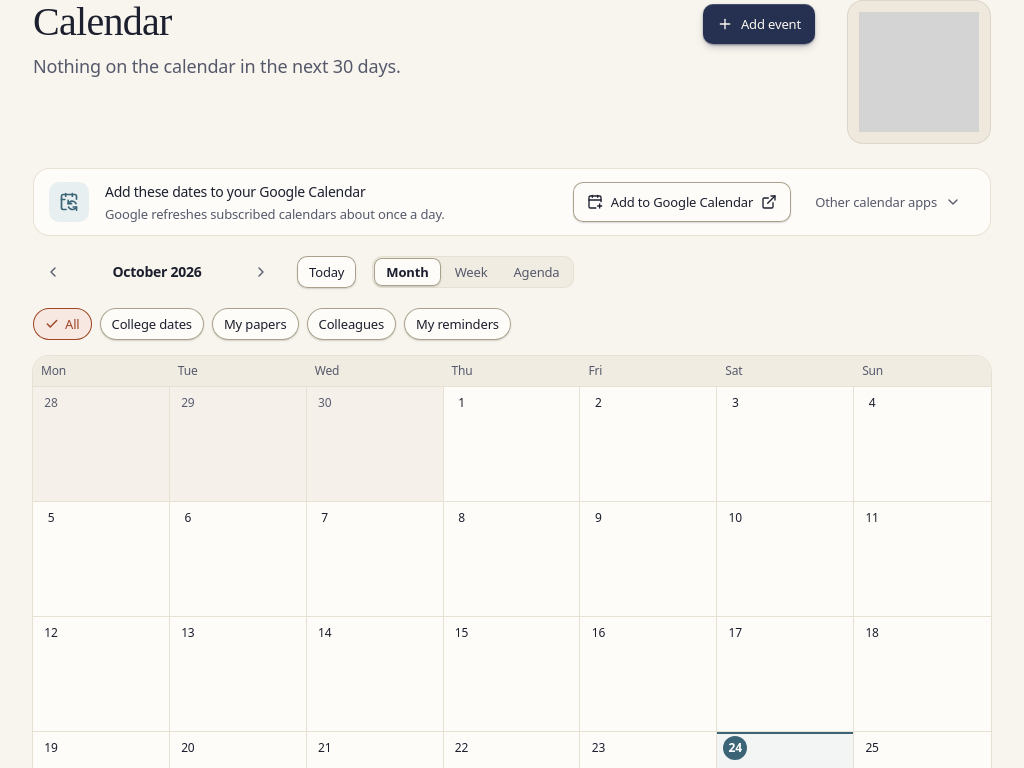
Test case: Add event › starts from today when the header button is used on this month
Click the button "Add event": (759, 24) [703,4,815,44]
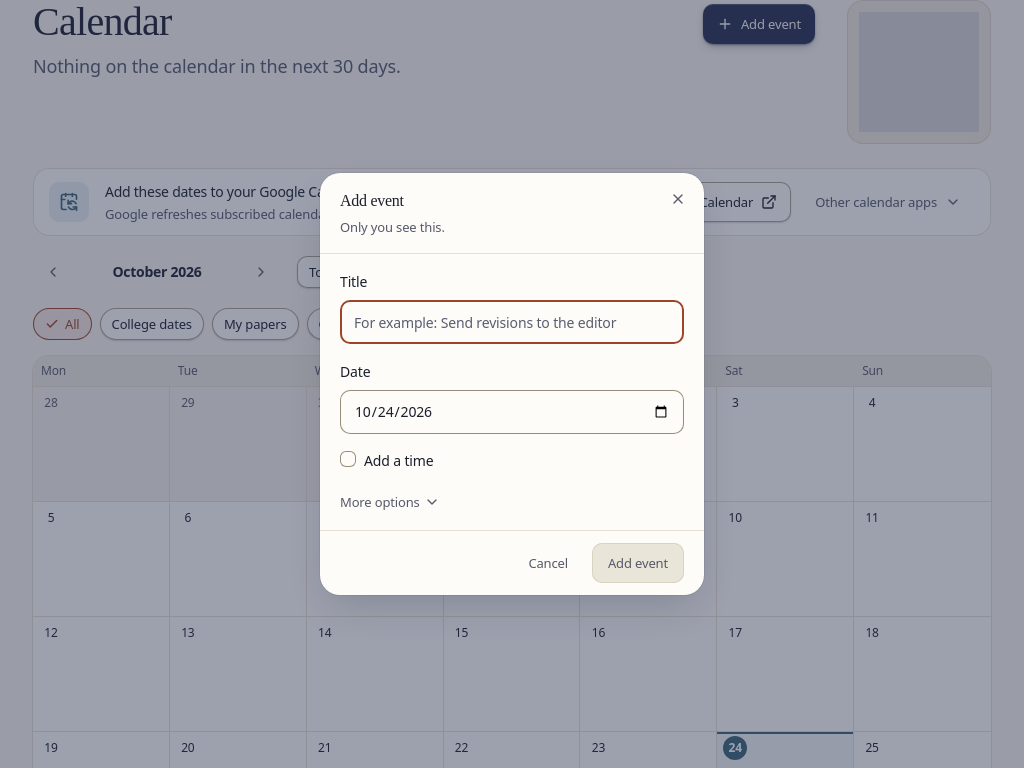
Result: the date field showing "2026-10-24" is shown at [340,390,684,434]
